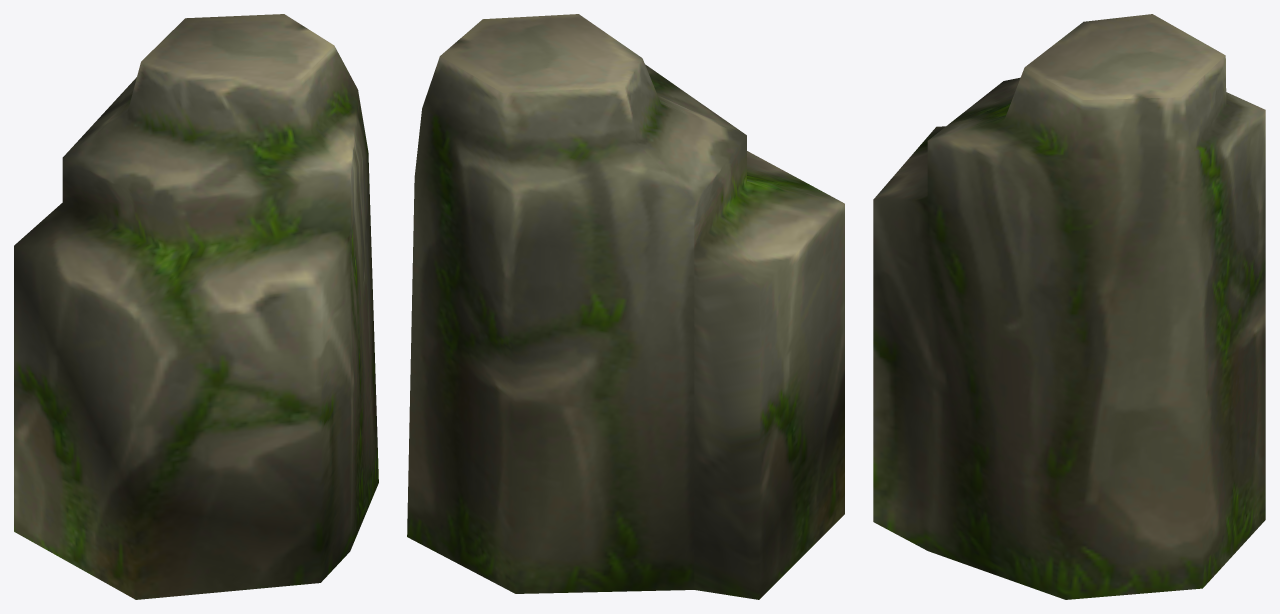
File: RockFormation_4_5 (6).fbx
3 renders of one model, left to right at view 1: azimuth 30°, elevation 25°; view 2: azimuth 150°, elevation 25°; view 3: azimuth 270°, elevation 25°, orthographic. The views are drawn at different scales.
Visible parts, largest first — view 1: RockFormation_4_5 (6); view 2: RockFormation_4_5 (6); view 3: RockFormation_4_5 (6).
Boxes of the visible parts, bbox=[...] form: RockFormation_4_5 (6): bbox=[14, 14, 378, 599]; RockFormation_4_5 (6): bbox=[407, 14, 844, 599]; RockFormation_4_5 (6): bbox=[873, 14, 1265, 599].
Bounding box in the file's own units: 413 × 537 × 397.
